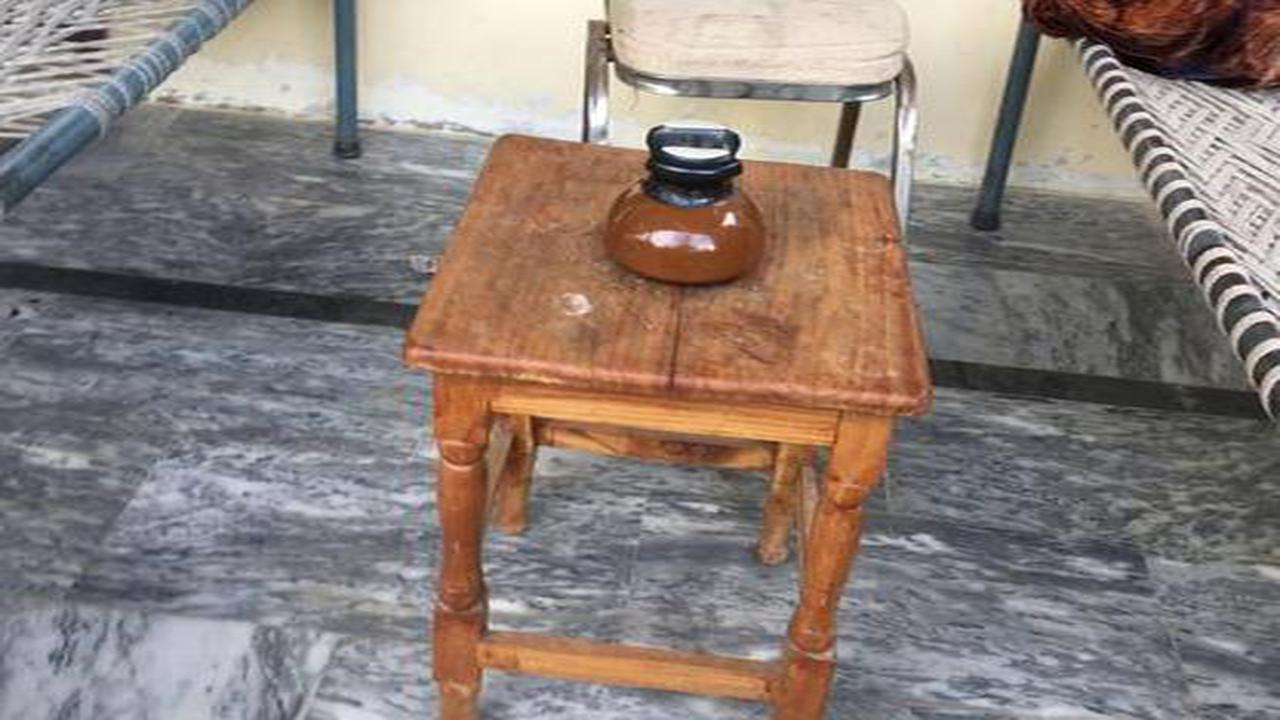insulator_pin: (576, 110, 794, 296)
